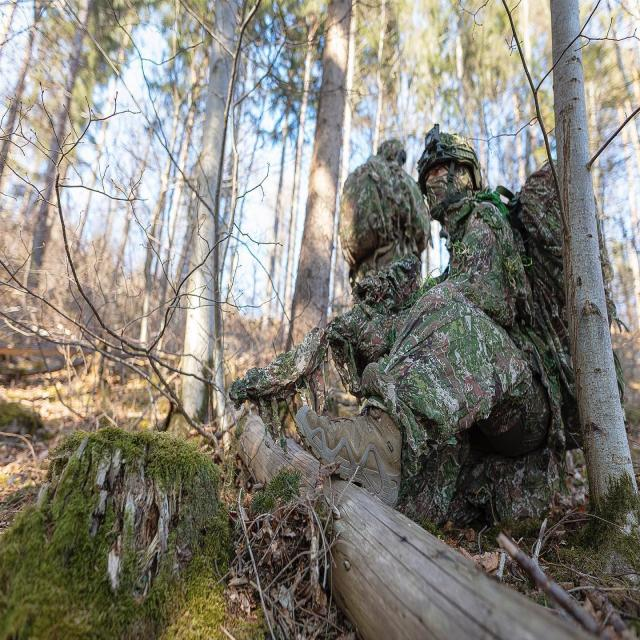Human: (250, 125, 583, 507), (341, 141, 429, 311)
